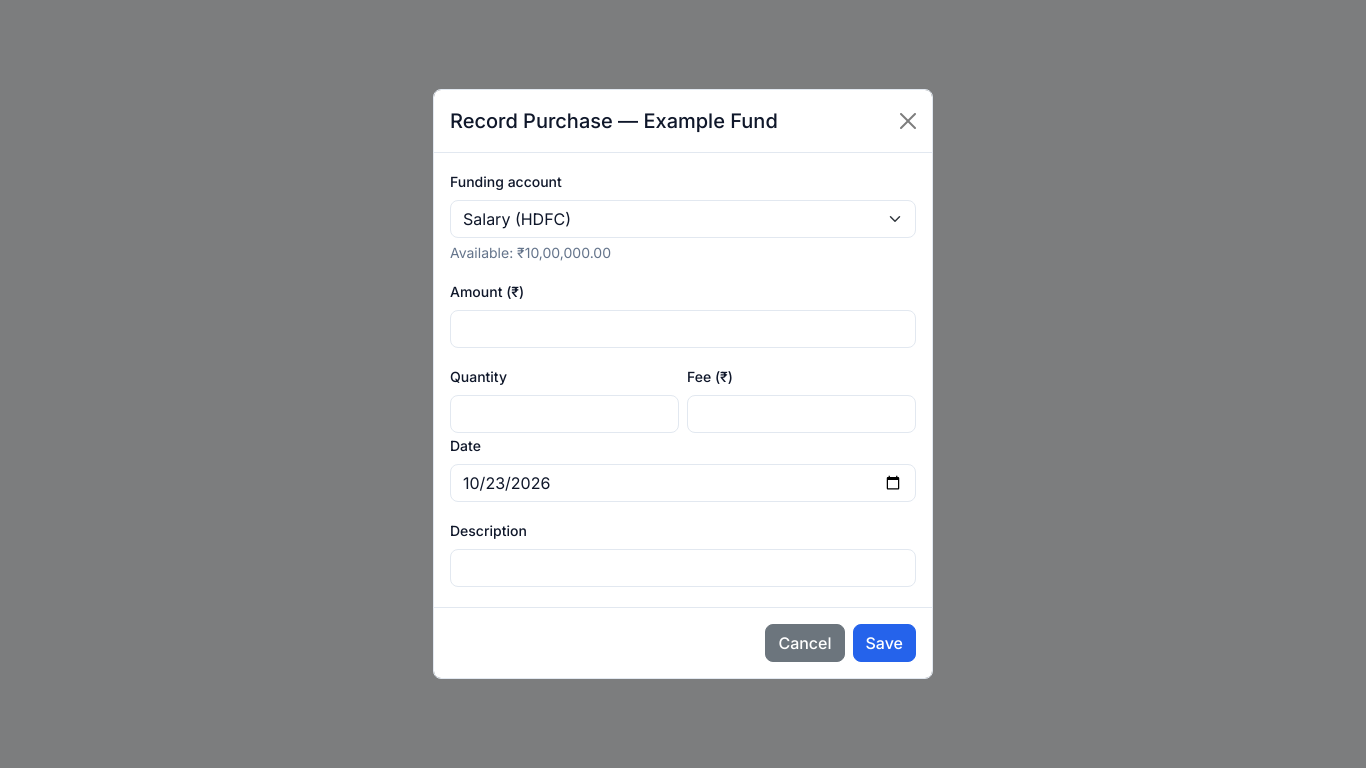
Scenario: InvestmentOpModal (purchase) › displays a backend error
In the number field labelled "Amount (₹)": (683, 329) x1=450 y1=310 x2=916 y2=348, type "9999999"
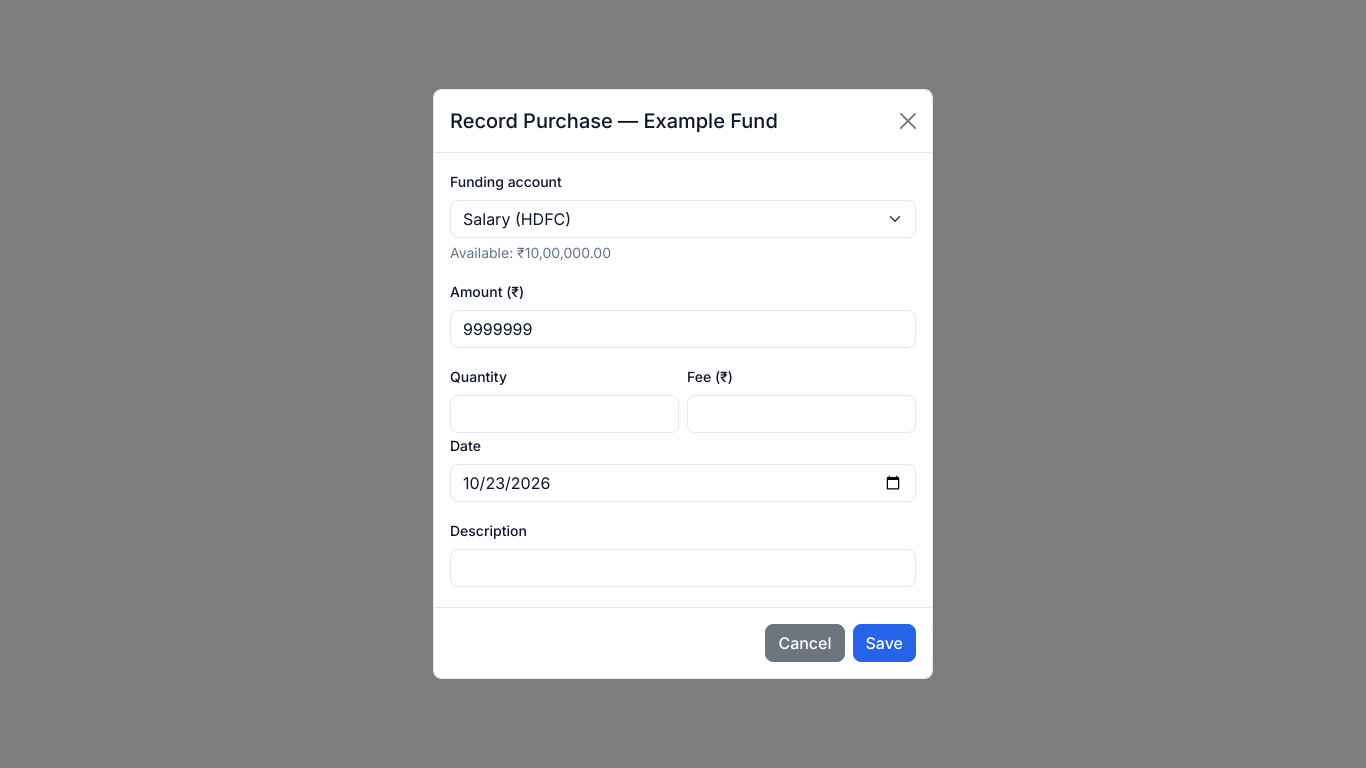
Click the button "Save": (884, 643) x1=852 y1=624 x2=916 y2=662
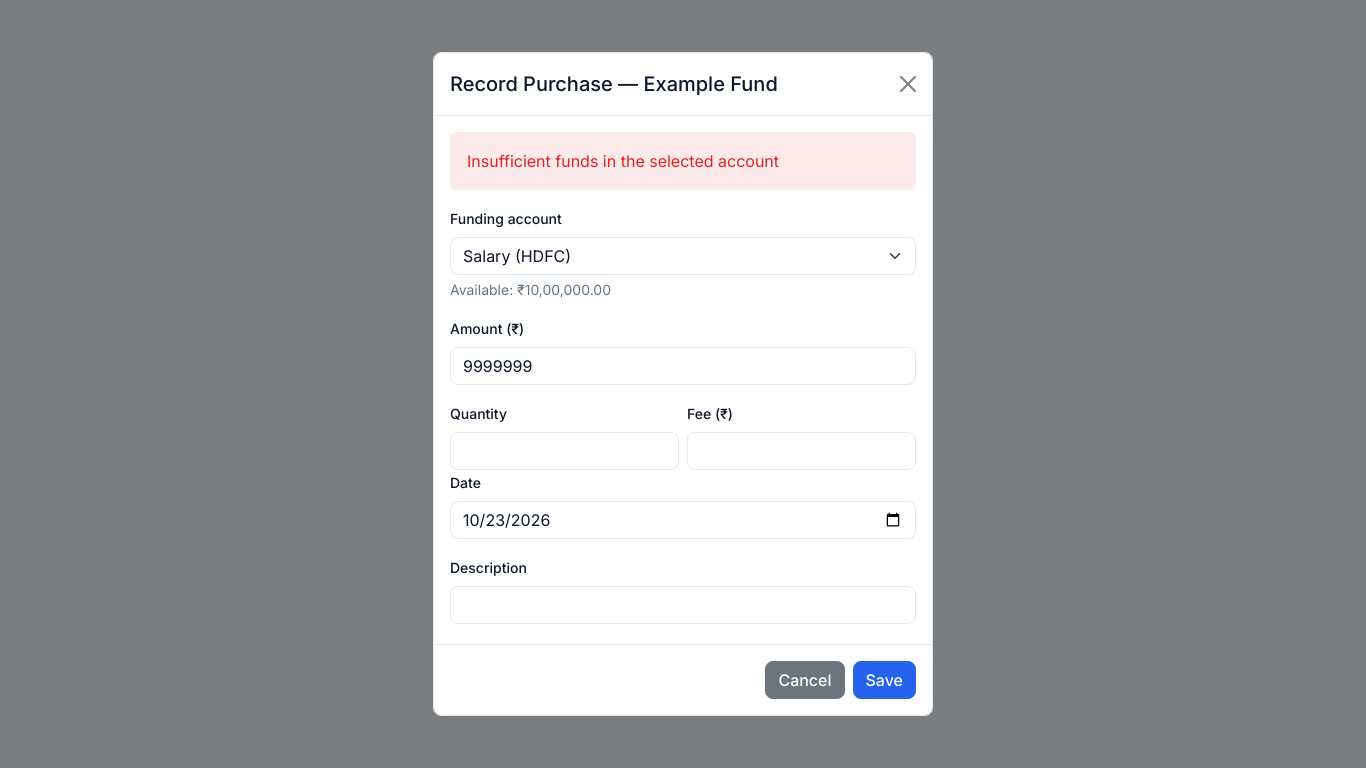
Expected: the text "Insufficient funds in the selected account" is shown, x1=450 y1=132 x2=916 y2=190
